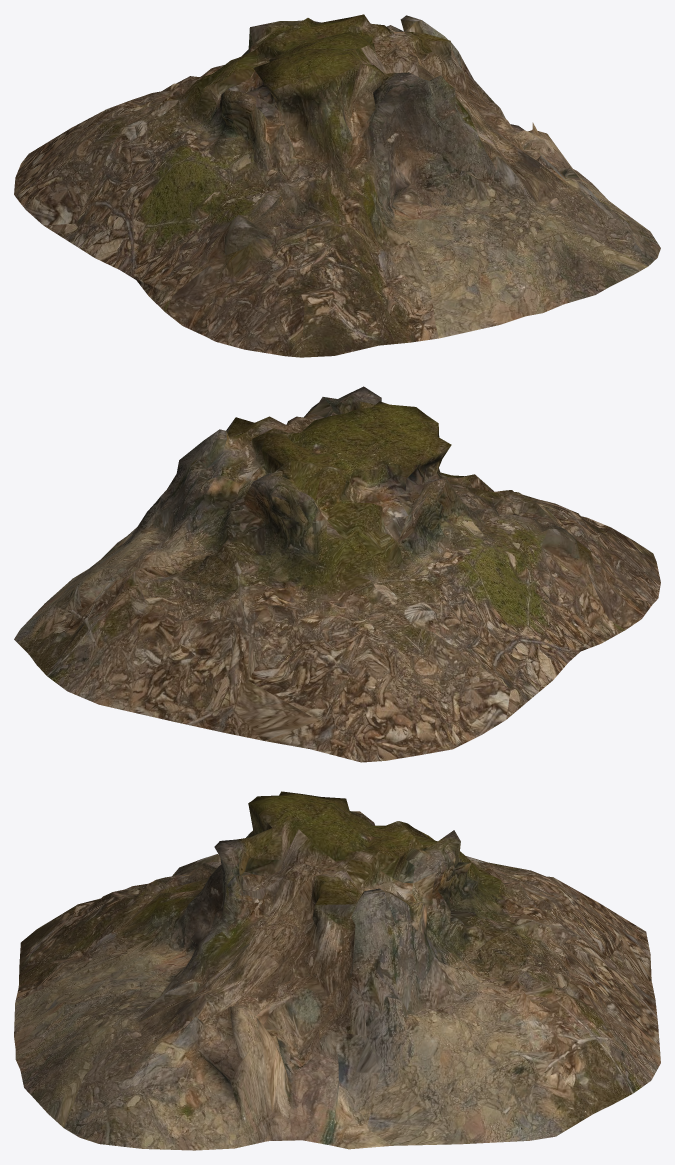
The model's file is stump_1.gltf.
The picture shows the model from 3 angles, top to bottom: view 1: azimuth 30°, elevation 25°; view 2: azimuth 150°, elevation 25°; view 3: azimuth 270°, elevation 25°; orthographic projection. The views are drawn at different scales.
Visible parts, largest first — view 1: stump_1; view 2: stump_1; view 3: stump_1.
Boxes of the visible parts, x1=… form: stump_1: x1=14, y1=14, x2=660, y2=357; stump_1: x1=14, y1=386, x2=660, y2=762; stump_1: x1=14, y1=791, x2=660, y2=1150.
Bounding box in the file's own units: 1.42 × 0.572 × 1.59.
Materials: 1 (1 with a texture image).
